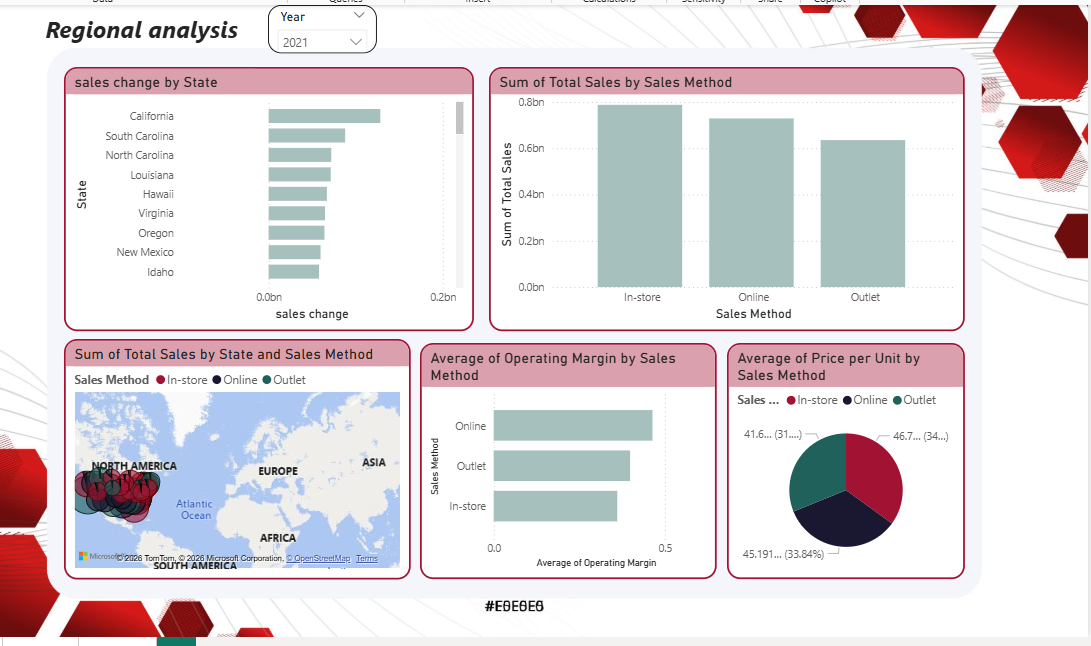

The page's visual inventory and layout, read from the dashboard file:
{"tool":"powerbi","page":{"name":"Page 3","canvas":[1280,720],"ordinal":2},"visuals":[{"type":"slicer","fields":{"Values":["Date.Year"]},"box":[150,115.8,300,150],"z":0},{"type":"clusteredBarChart","fields":{"Category":["Data Sales Adidas.State"],"Y":["Data Sales Adidas.sales change"]},"box":[114.4,70.7,466.5,300.7],"z":1000},{"type":"map","fields":{"Category":["Data Sales Adidas.State"],"Size":["Sum(Data Sales Adidas.Total Sales)"],"Series":["Data Sales Adidas.Sales Method"]},"box":[114.4,380.4,394.5,273.7],"z":2000},{"type":"columnChart","fields":{"Y":["Sum(Data Sales Adidas.Total Sales)"],"Category":["Data Sales Adidas.Sales Method"]},"box":[597.6,70.7,542.3,300.7],"z":3000},{"type":"barChart","fields":{"Category":["Data Sales Adidas.Sales Method"],"Y":["Avg(Data Sales Adidas.Operating Margin)"]},"box":[519.2,385.5,338,268.6],"z":4000},{"type":"pieChart","fields":{"Y":["Avg(Data Sales Adidas.Price per Unit)"],"Category":["Data Sales Adidas.Sales Method"]},"box":[868.8,385.5,271.2,268.6],"z":5000},{"type":"textbox","box":[87.5,3.8,242.5,55],"z":6000},{"type":"slicer","fields":{"Values":["Date.Year","Data Sales Adidas.Retailer"]},"box":[346.2,0,123.8,55],"z":7000}]}

Visuals, with their boxes in screenshot pixels (x1, y1, x2, y2):
slicer - Date.Year: {"left": 97, "top": 104, "right": 358, "bottom": 234}
clusteredBarChart - Data Sales Adidas.State x Data Sales Adidas.sales change: {"left": 66, "top": 64, "right": 472, "bottom": 326}
map - Data Sales Adidas.State x Sum(Data Sales Adidas.Total Sales): {"left": 66, "top": 334, "right": 409, "bottom": 573}
columnChart - Sum(Data Sales Adidas.Total Sales) x Data Sales Adidas.Sales Method: {"left": 487, "top": 64, "right": 959, "bottom": 326}
barChart - Data Sales Adidas.Sales Method x Avg(Data Sales Adidas.Operating Margin): {"left": 418, "top": 339, "right": 713, "bottom": 573}
pieChart - Avg(Data Sales Adidas.Price per Unit) x Data Sales Adidas.Sales Method: {"left": 723, "top": 339, "right": 959, "bottom": 573}
textbox: {"left": 42, "top": 6, "right": 253, "bottom": 54}
slicer - Date.Year x Data Sales Adidas.Retailer: {"left": 268, "top": 3, "right": 375, "bottom": 51}
